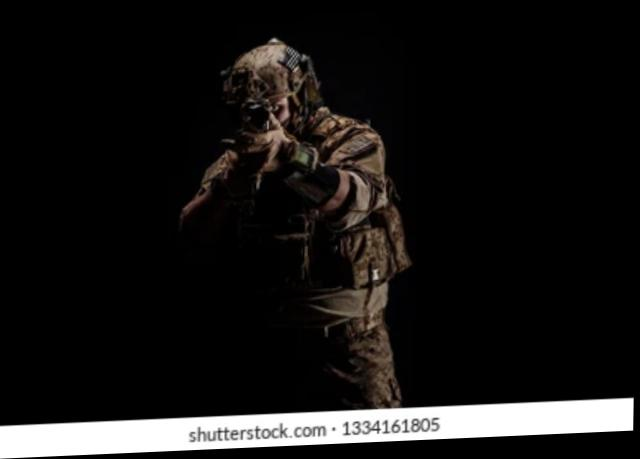other: (183, 48, 401, 408)
